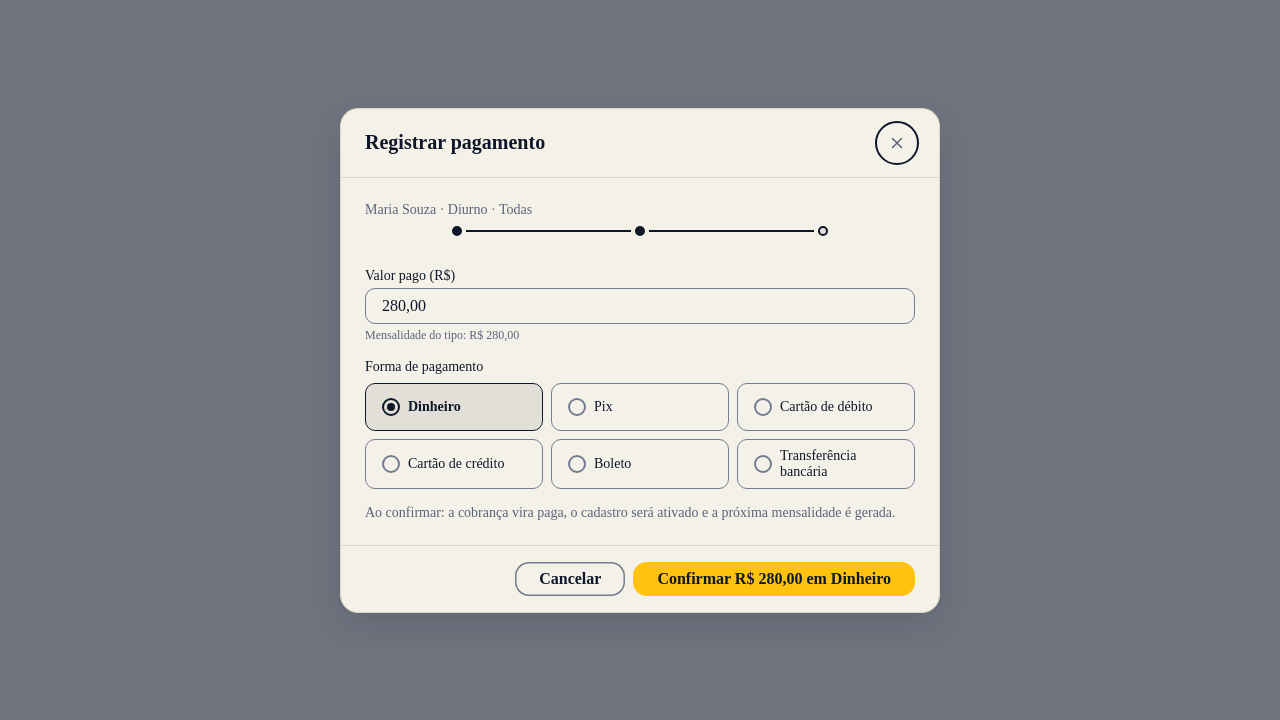
Test case: comprovante do pagamento › explica o vencimento quando o mês não tem o dia do cadastro
Step 1. Click the button "Confirmar R$ 280,00 em Dinheiro" → (774, 578), box [633,562,915,596]
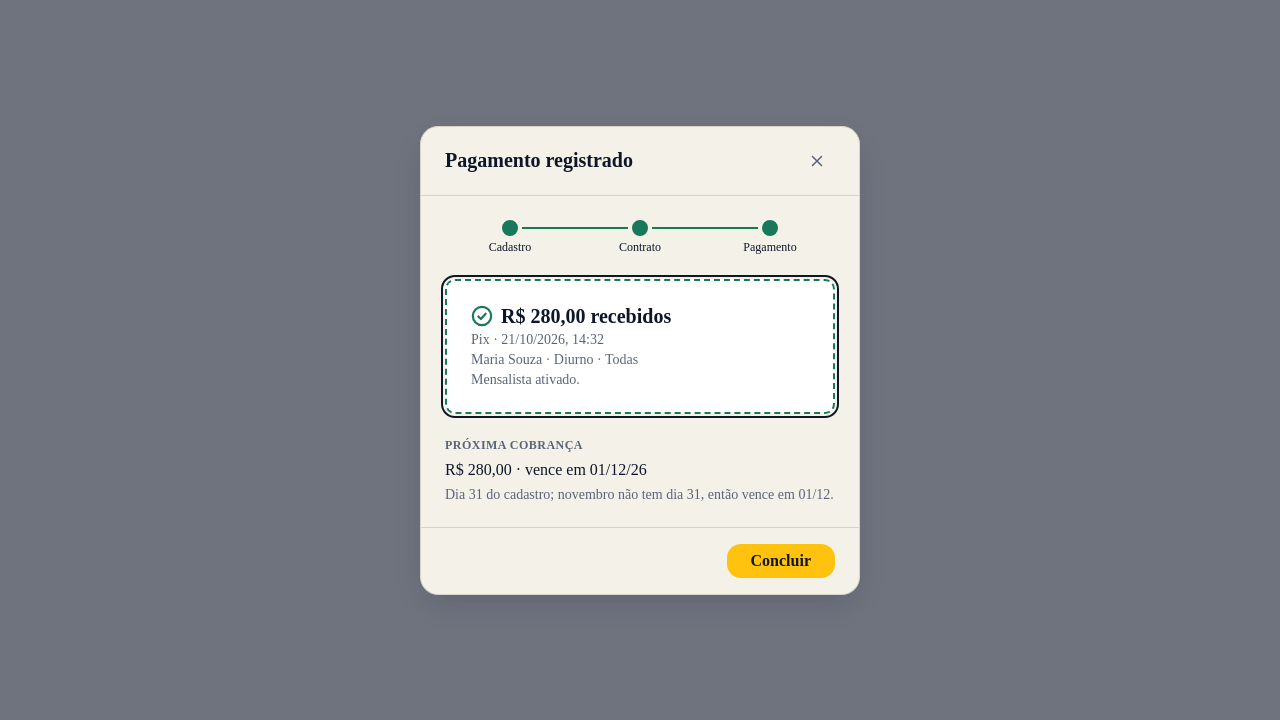
Now the dialog "Pagamento registrado" is shown, box [420,126,860,594]
Now the text "R$ 280,00 · vence em 01/12/26" is shown, box [445,460,647,478]
Now the text "Dia 31 do cadastro; novembro não tem dia 31, então vence em 01/12." is shown, box [445,486,835,502]
